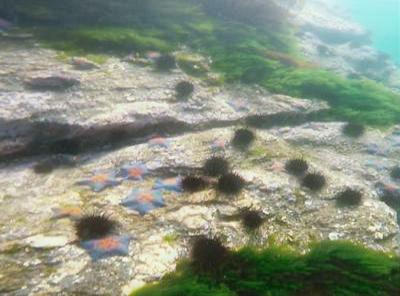urchin: (72, 211, 115, 240), (192, 235, 228, 263), (204, 154, 232, 176), (284, 155, 310, 175), (183, 173, 208, 193), (220, 172, 243, 193), (342, 120, 366, 139), (340, 186, 365, 204), (305, 171, 327, 190), (243, 210, 263, 230), (236, 127, 256, 146), (156, 53, 178, 70), (175, 80, 196, 95), (385, 163, 400, 179)
